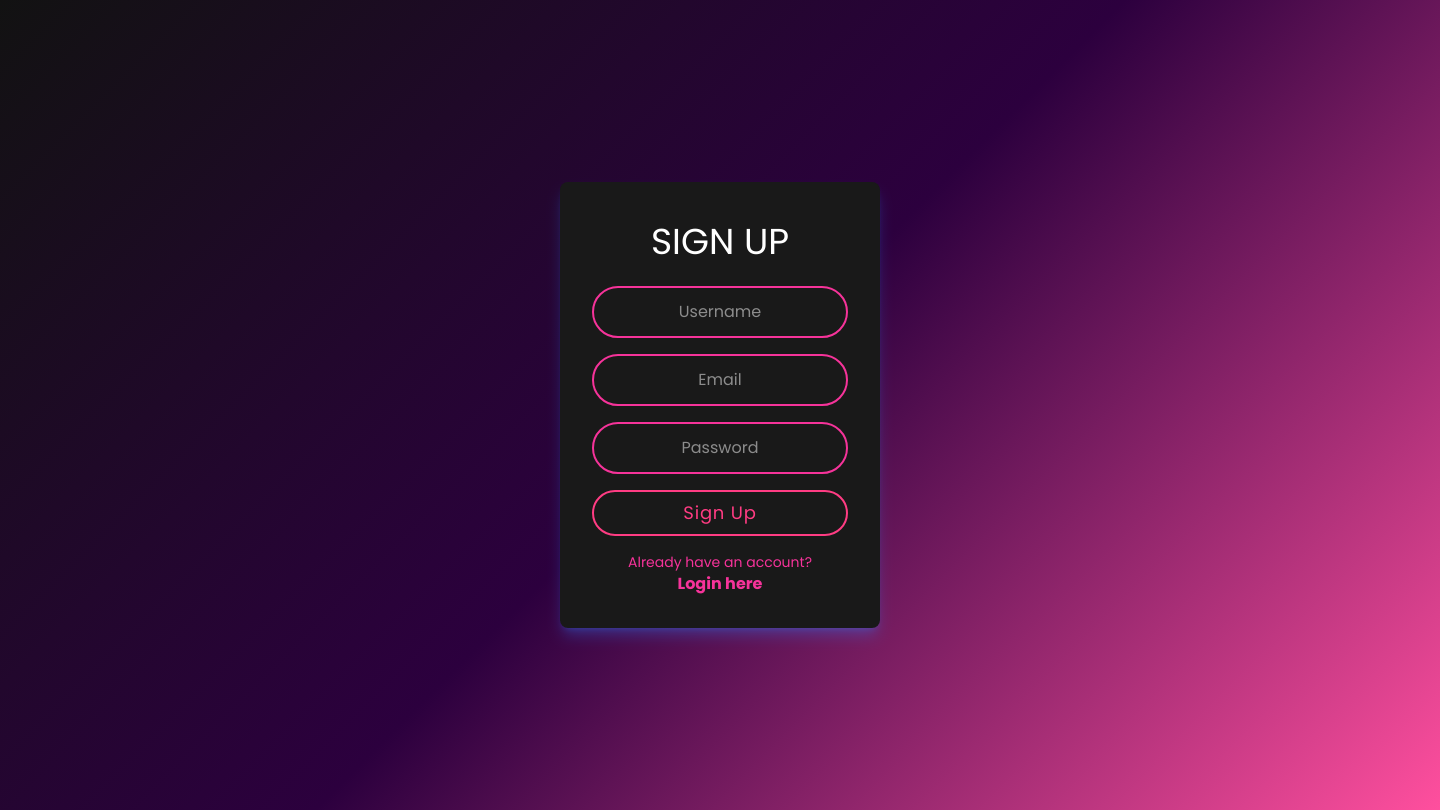
Test: SignupPage Component › should display error message if signup fails (e.g., user exists)
// fill & submit
Type "alice" into the field with placeholder "Username" at point(720, 312), box [592, 286, 848, 338]
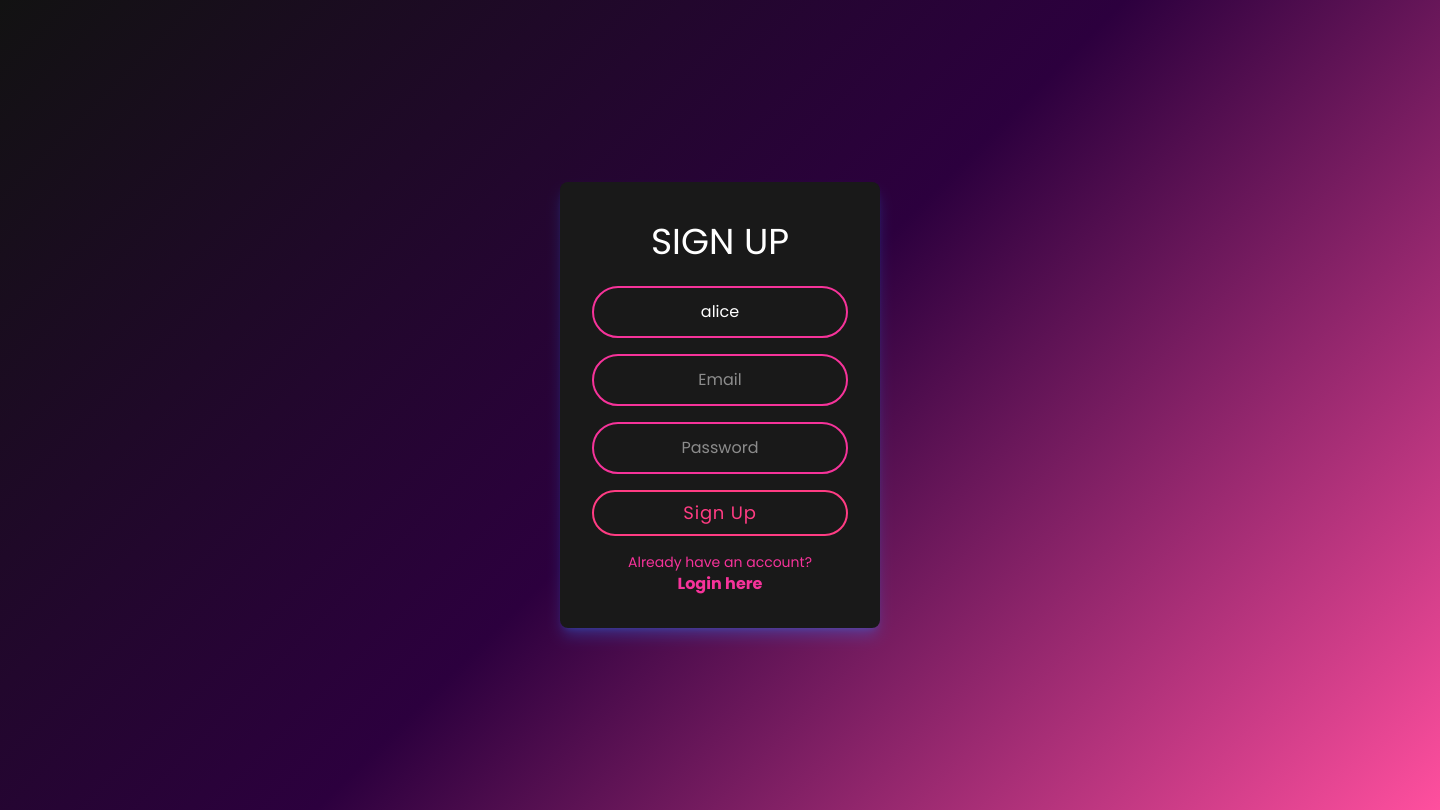
Type "alice@example.com" into the field with placeholder "Email" at point(720, 380), box [592, 354, 848, 406]
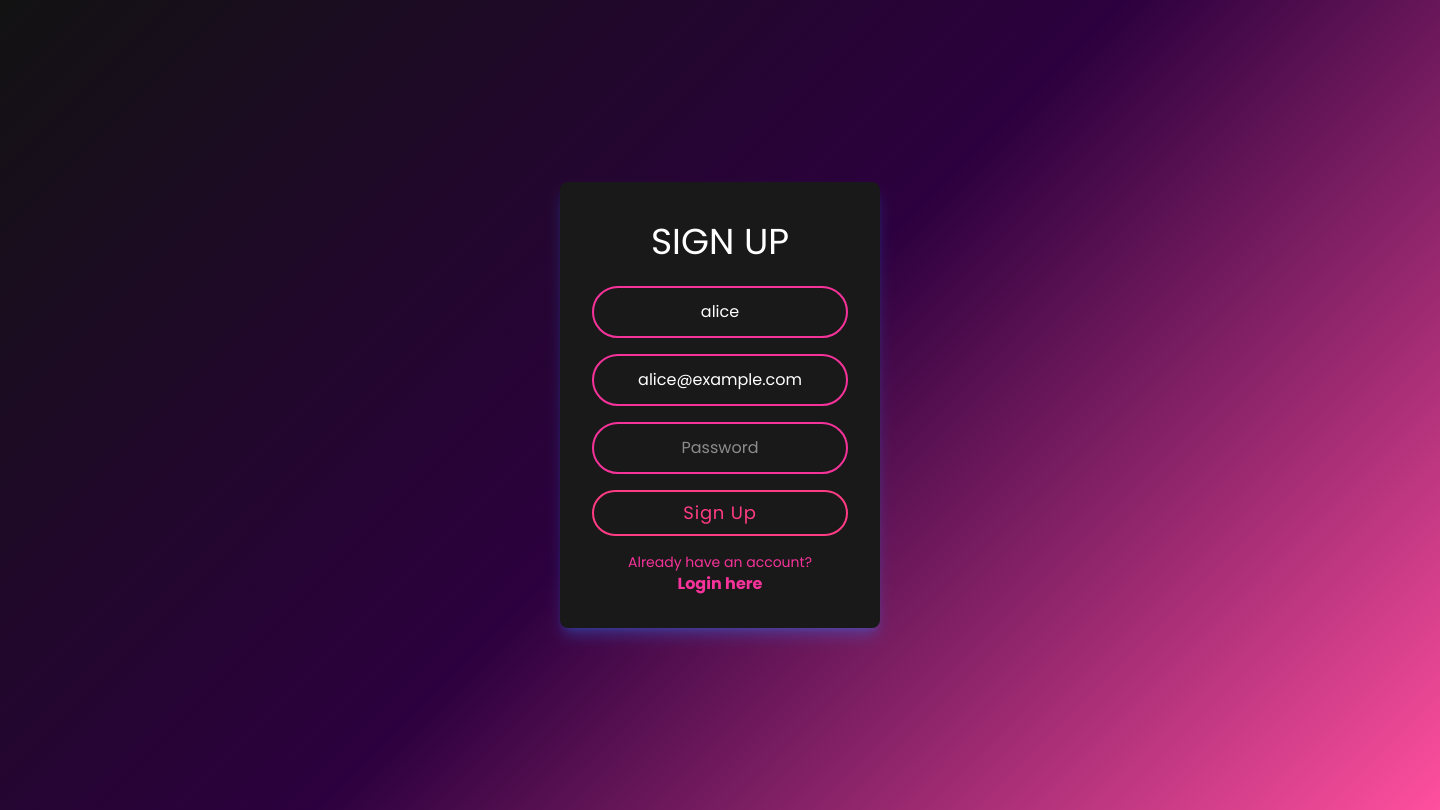
Type "password123" into the password field with placeholder "Password" at point(720, 448), box [592, 422, 848, 474]
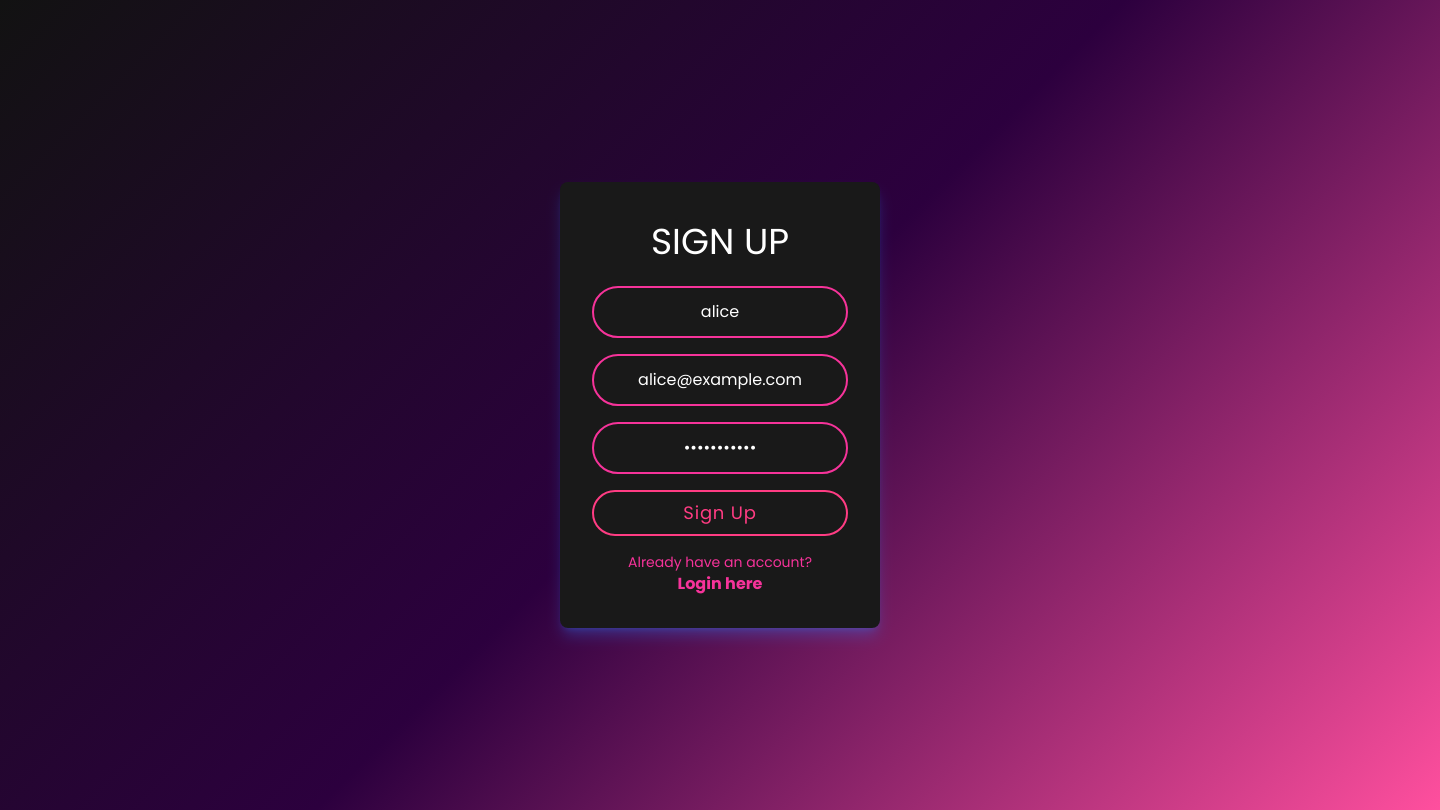
Click the button "Sign Up" at point(720, 513), box [592, 490, 848, 536]
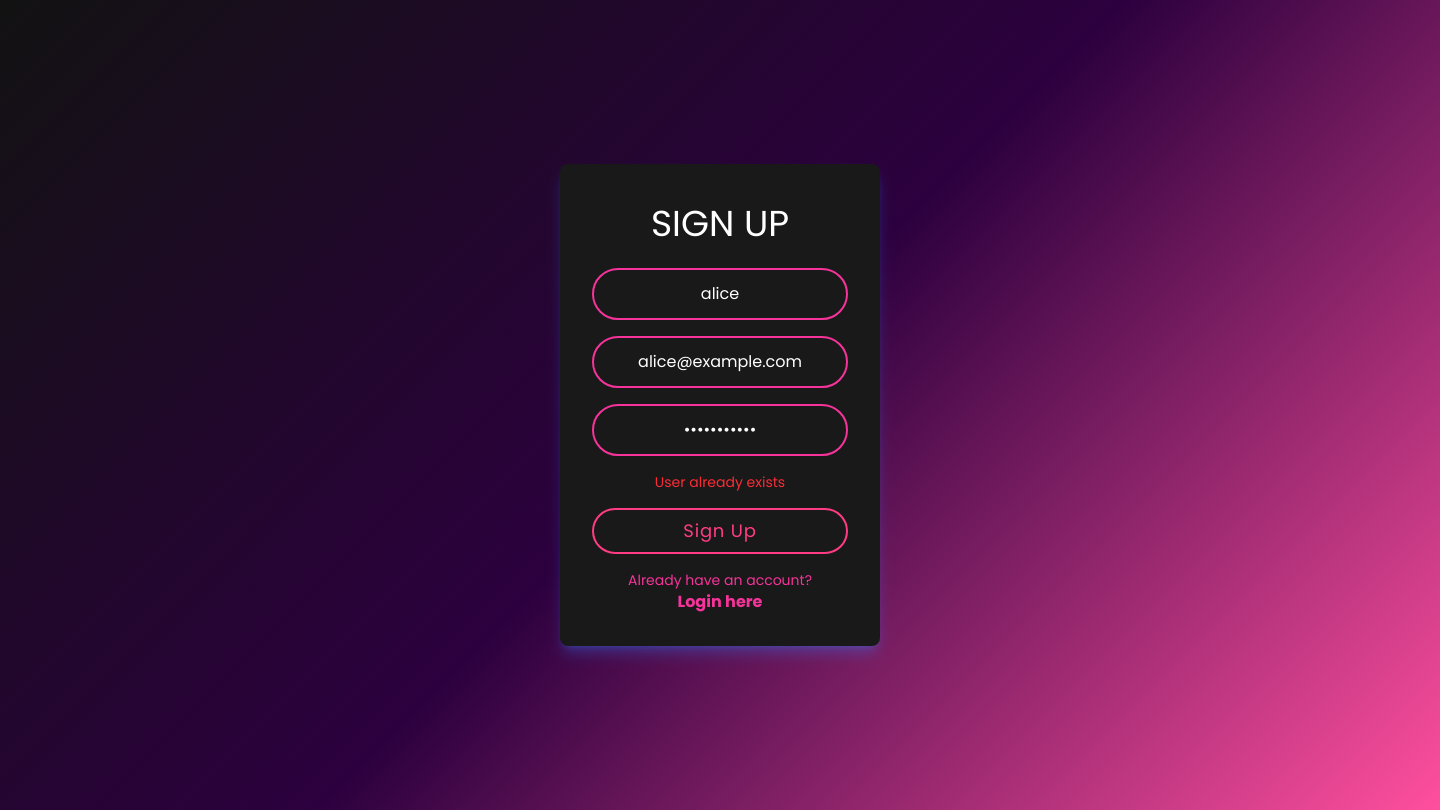
Result: the text "User already exists" is shown at [655, 472, 785, 492]
